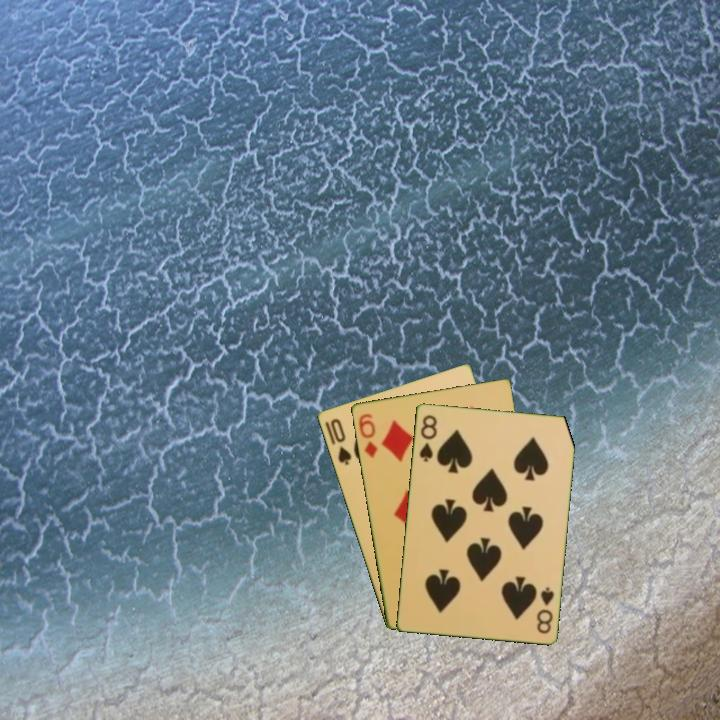10s: (326, 415, 354, 468)
6d: (355, 410, 380, 460)
8s: (415, 411, 440, 465), (533, 583, 556, 636)
